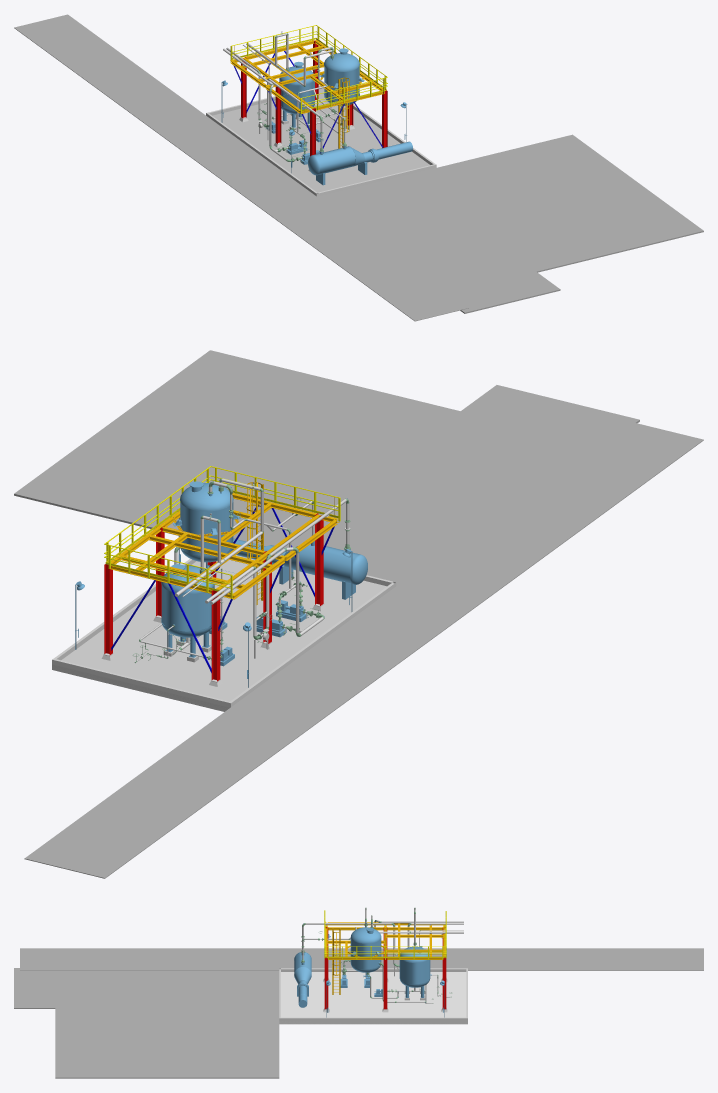
File: cax4.glb
The picture shows the model from 3 angles, top to bottom: view 1: azimuth 30°, elevation 25°; view 2: azimuth 150°, elevation 25°; view 3: azimuth 270°, elevation 25°; orthographic projection. The views are drawn at different scales.
Visible parts, largest first — view 1: cax4; view 2: cax4; view 3: cax4.
Boxes of the visible parts, box(x1,y1,x2,y2) form: cax4: box(14, 14, 703, 321); cax4: box(14, 350, 703, 878); cax4: box(14, 907, 703, 1078).
Size of the model in its own units: 25.87 by 8.01 by 58.5.
